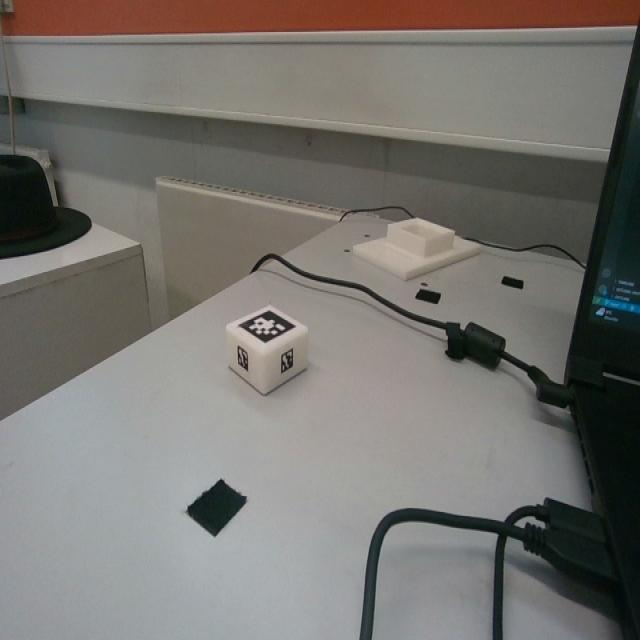Cube: (225, 300, 310, 395)
